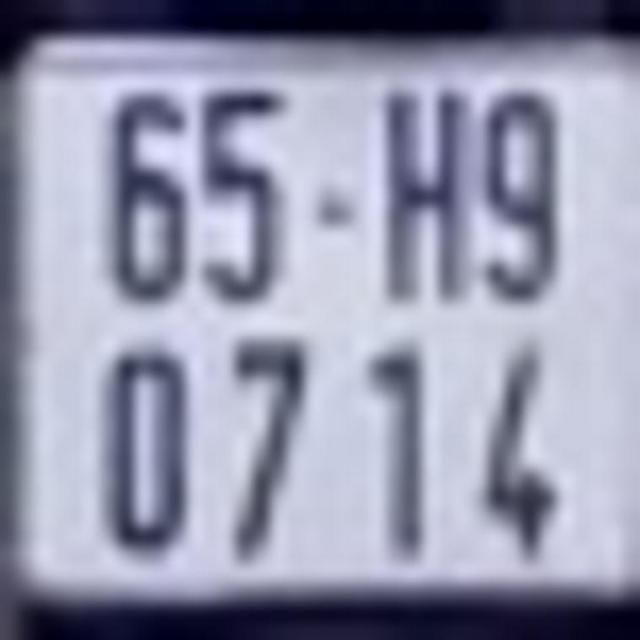0: (110, 342, 196, 556)
1: (365, 344, 430, 555)
4: (475, 325, 558, 560)
5: (199, 90, 292, 298)
6: (112, 91, 187, 312)
7: (220, 336, 304, 573)
9: (477, 82, 563, 305)
H: (383, 88, 468, 303)
